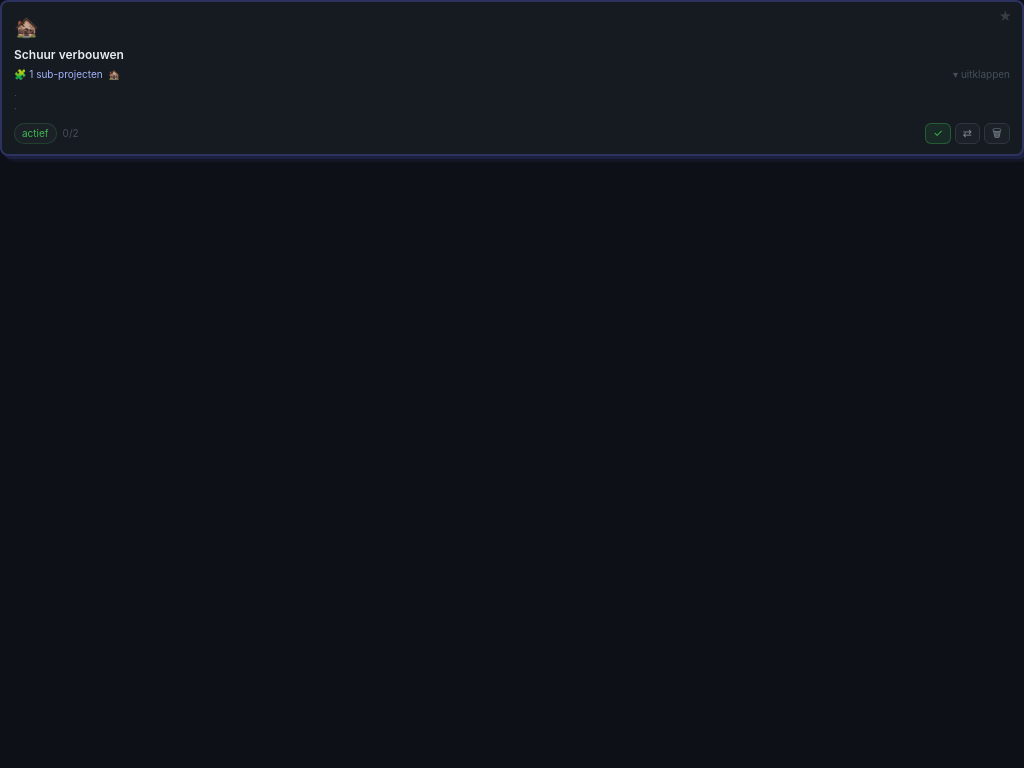
Test case: ProjectCard — verwijderen › zegt erbij dat het definitief is en wat er met de rest gebeurt
Click the button named "Schuur verbouwen verwijderen" at (997,133), box [984,123,1010,144]
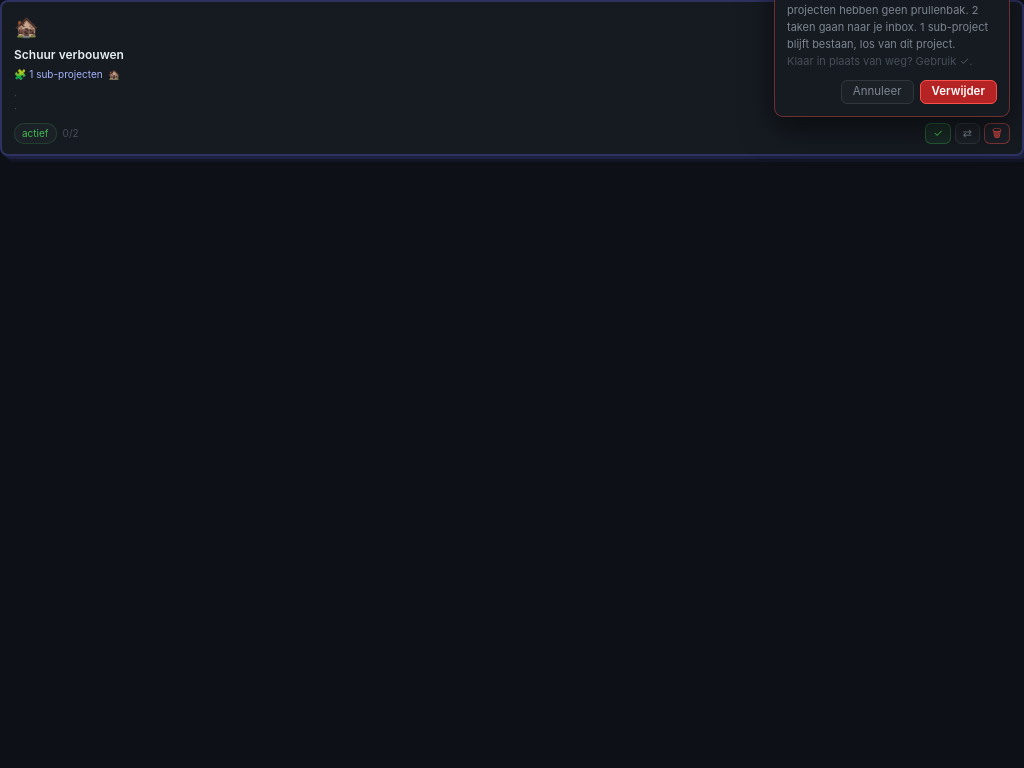
Expected: the dialog shows "Klaar in plaats van weg", [787,54,972,68]
